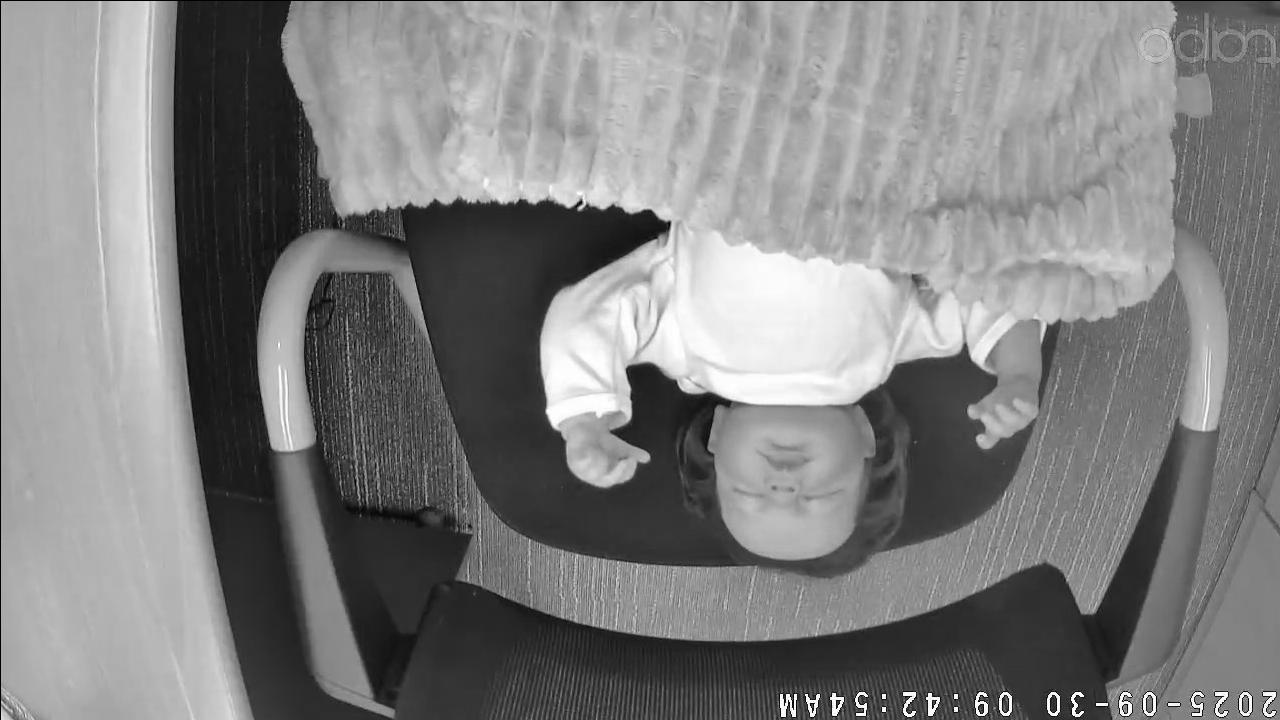hand: (962, 376, 1041, 450), (563, 423, 647, 487)
